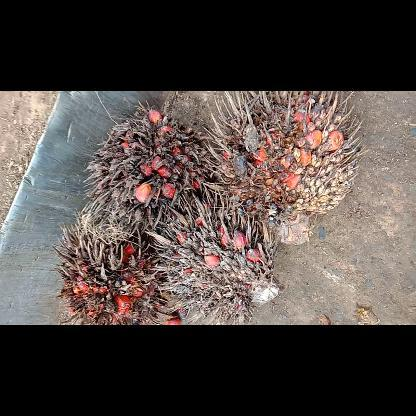Terlalu masak: (197, 91, 373, 247), (80, 100, 224, 242), (147, 184, 287, 324), (51, 210, 182, 324)
